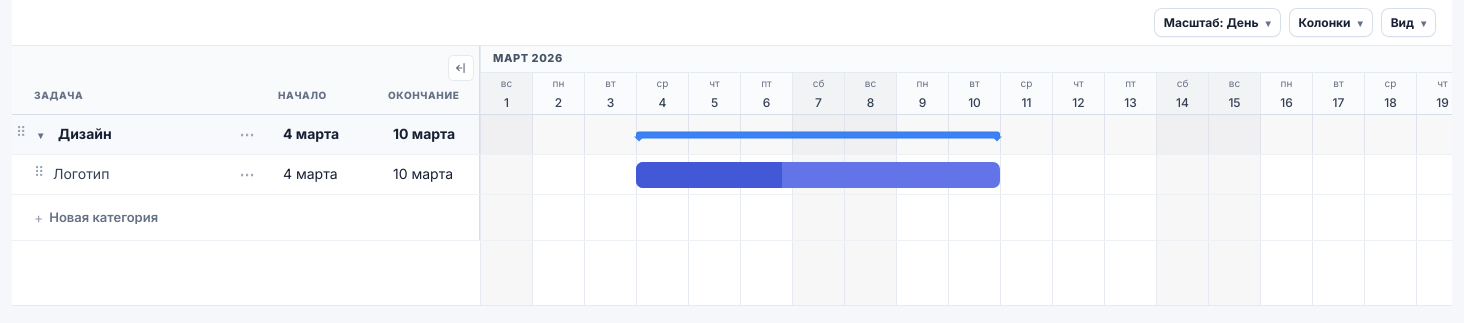
карточка наведения на полоску › называет сочетания клавиш тому, кто может двигать полоску
The width and height of the screenshot is (1464, 323).
Hover over the button named "Логотип" at (709, 174), box [636,162,1000,188]
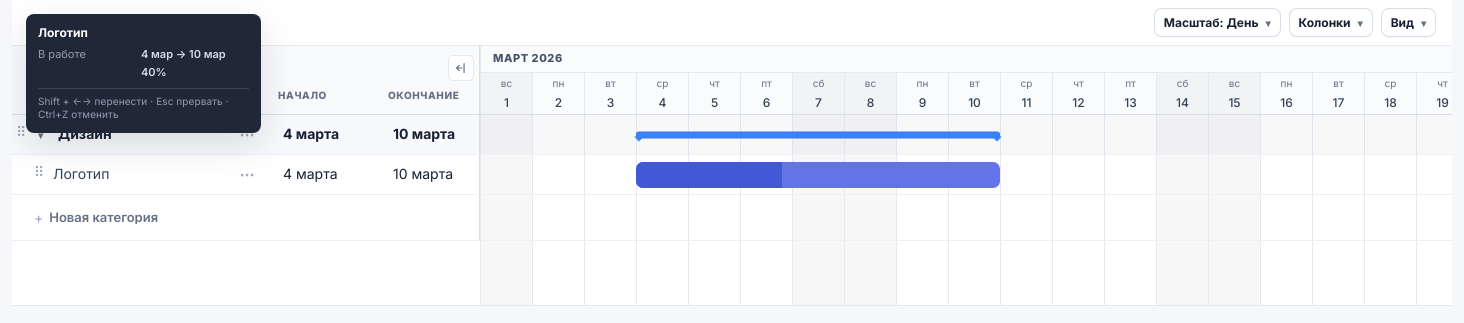
Now the element with test id "bar-tip" shows "Shift + ←→", box [38,95,229,120]
Now the element with test id "bar-tip" shows "Esc", box [38,95,229,120]
